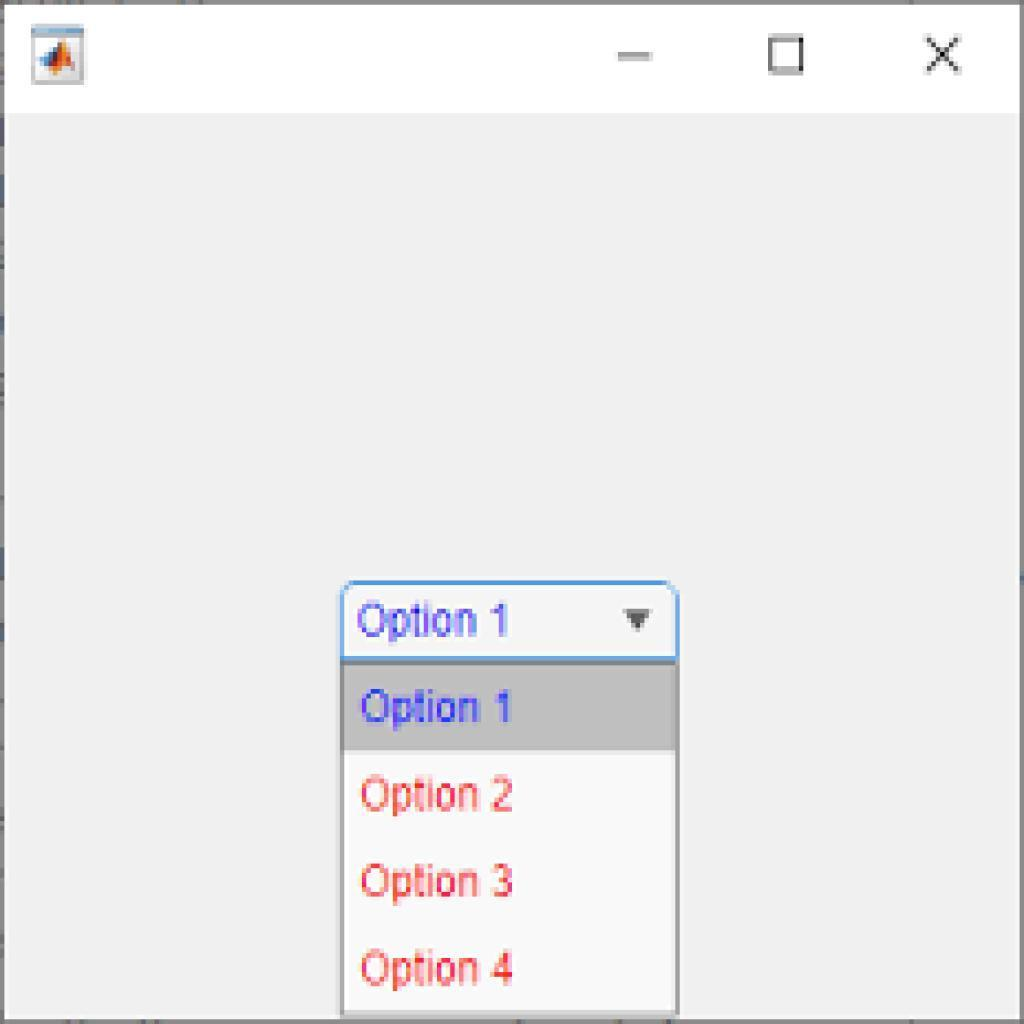dropdown: (343, 582, 682, 663)
